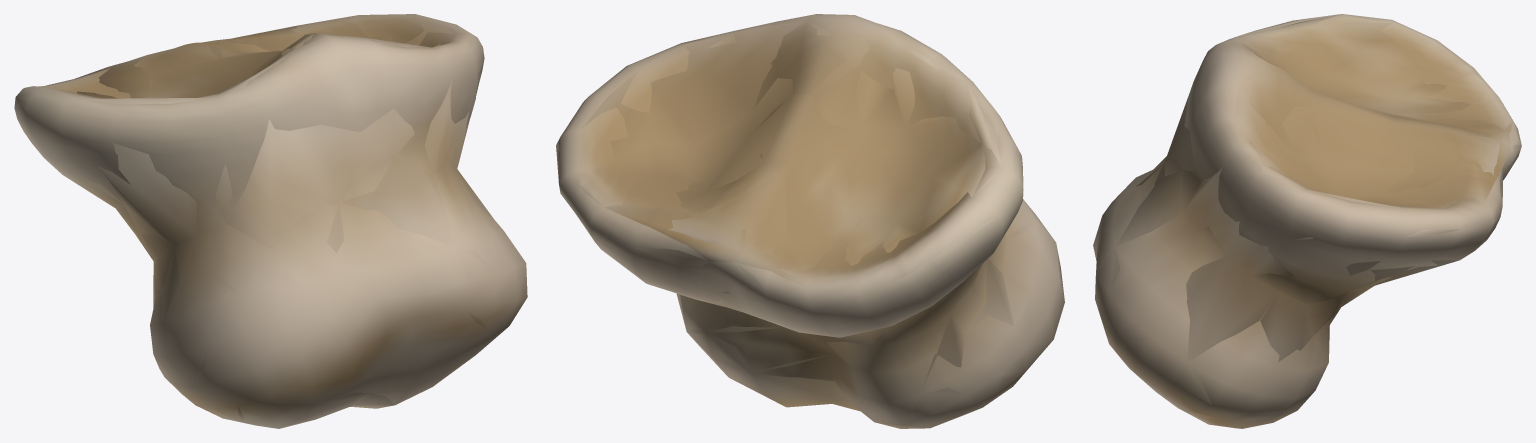
Rendered from BL 2nd Phalanx.fbx.
3 views of the same model, side by side, from view 1: azimuth 30°, elevation 25°; view 2: azimuth 150°, elevation 25°; view 3: azimuth 270°, elevation 25° (orthographic). The views are drawn at different scales.
Visible parts, largest first — view 1: BL 2nd Phalanx, BL 2nd Phalanx low; view 2: BL 2nd Phalanx, BL 2nd Phalanx low; view 3: BL 2nd Phalanx, BL 2nd Phalanx low.
Boxes of the visible parts, left/top/right/bottom form: BL 2nd Phalanx: left=14, top=14, right=527, bottom=428; BL 2nd Phalanx low: left=16, top=14, right=525, bottom=422; BL 2nd Phalanx: left=556, top=14, right=1064, bottom=428; BL 2nd Phalanx low: left=556, top=21, right=1058, bottom=425; BL 2nd Phalanx: left=1093, top=14, right=1521, bottom=428; BL 2nd Phalanx low: left=1097, top=14, right=1521, bottom=423.
Size of the model in its own units: 7.15 by 6.03 by 6.77.
Materials: 1 (1 with a texture image).
